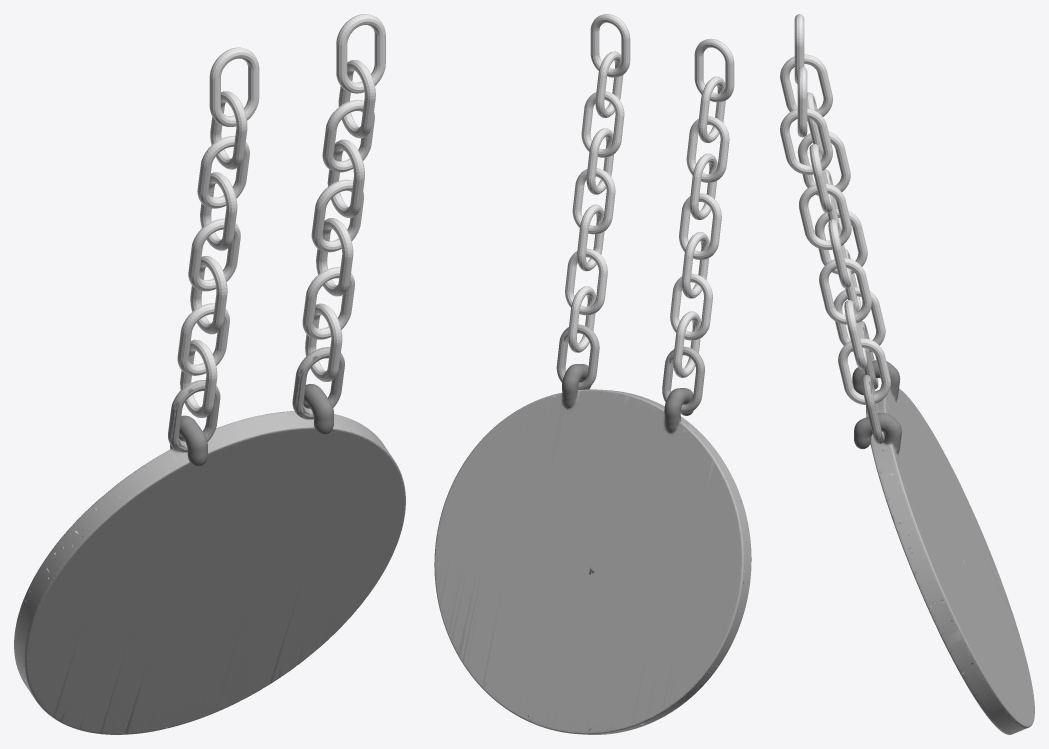
File: sign-animation-combined.glb
3 renders of one model, left to right at view 1: azimuth 30°, elevation 25°; view 2: azimuth 150°, elevation 25°; view 3: azimuth 270°, elevation 25°, orthographic. The views are drawn at different scales.
Visible parts, largest first — view 1: Torus.074, Torus.072, Torus.056, Torus.062, Torus.059, Torus.051, Torus.001, Torus.063, Torus.070, Torus.002, Torus.071, Torus.053 (+4 smaller); view 2: Torus.074, Torus.072, Torus.070, Torus.002, Torus.062, Torus.051, Torus.059, Torus.056, Torus.058, Torus.050, Torus.061, Torus.053 (+4 smaller); view 3: Torus.074, Torus.061, Torus.071, Torus.063, Torus.001, Torus.072, Torus.050, Torus.053, Torus.058, Torus.060, Torus.062, Torus.002 (+1 smaller).
Part boxes in pixels (<box>): Torus.074: <box>14,347,405,734</box>; Torus.072: <box>209,14,385,126</box>; Torus.056: <box>188,218,240,291</box>; Torus.062: <box>302,267,354,339</box>; Torus.059: <box>177,303,229,375</box>; Torus.051: <box>197,136,249,208</box>; Torus.001: <box>327,139,364,217</box>; Torus.063: <box>316,218,353,296</box>; Torus.070: <box>322,100,374,172</box>; Torus.002: <box>311,179,363,252</box>; Torus.071: <box>338,60,375,138</box>; Torus.053: <box>200,172,237,250</box>; Torus.074: <box>434,324,751,734</box>; Torus.072: <box>590,14,734,102</box>; Torus.070: <box>581,91,624,157</box>; Torus.002: <box>572,168,615,234</box>; Torus.062: <box>565,248,607,315</box>; Torus.051: <box>686,116,729,182</box>; Torus.059: <box>670,273,712,340</box>; Torus.056: <box>679,193,721,259</box>; Torus.058: <box>681,232,709,298</box>; Torus.050: <box>698,76,725,142</box>; Torus.061: <box>568,286,596,352</box>; Torus.053: <box>689,153,717,219</box>; Torus.074: <box>852,321,1034,734</box>; Torus.061: <box>838,338,890,404</box>; Torus.071: <box>780,108,832,174</box>; Torus.063: <box>819,258,871,324</box>; Torus.001: <box>799,183,851,249</box>; Torus.072: <box>794,14,807,137</box>; Torus.050: <box>780,54,832,120</box>; Torus.053: <box>797,131,850,195</box>; Torus.058: <box>814,208,867,274</box>; Torus.060: <box>833,287,885,352</box>; Torus.062: <box>844,300,866,369</box>; Torus.002: <box>828,219,851,288</box>.
Bounding box in the file's own units: 7.39 × 14.88 × 5.1.
1 material, 1 textured.
